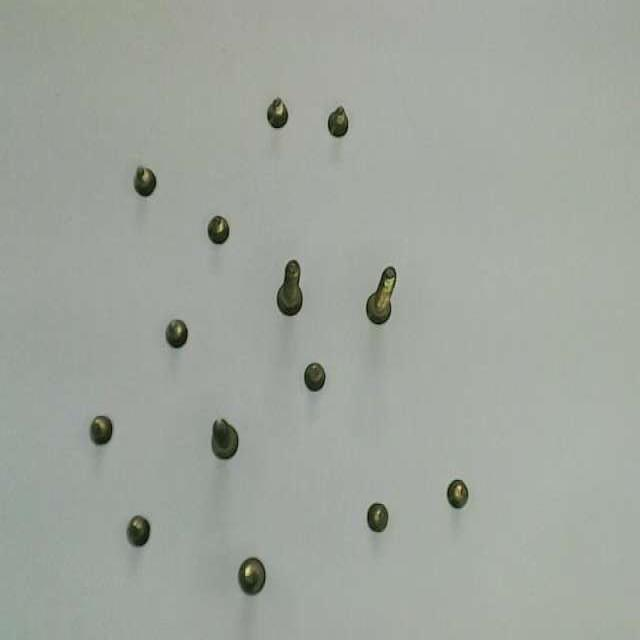Parafuso: (367, 268, 394, 321), (277, 260, 302, 315), (213, 419, 238, 456), (238, 559, 265, 593), (127, 515, 150, 545), (90, 415, 112, 444), (135, 165, 155, 196), (267, 97, 287, 128), (165, 320, 187, 347), (207, 216, 229, 243), (368, 503, 388, 532), (304, 363, 324, 391), (328, 107, 348, 135), (449, 479, 468, 508)
